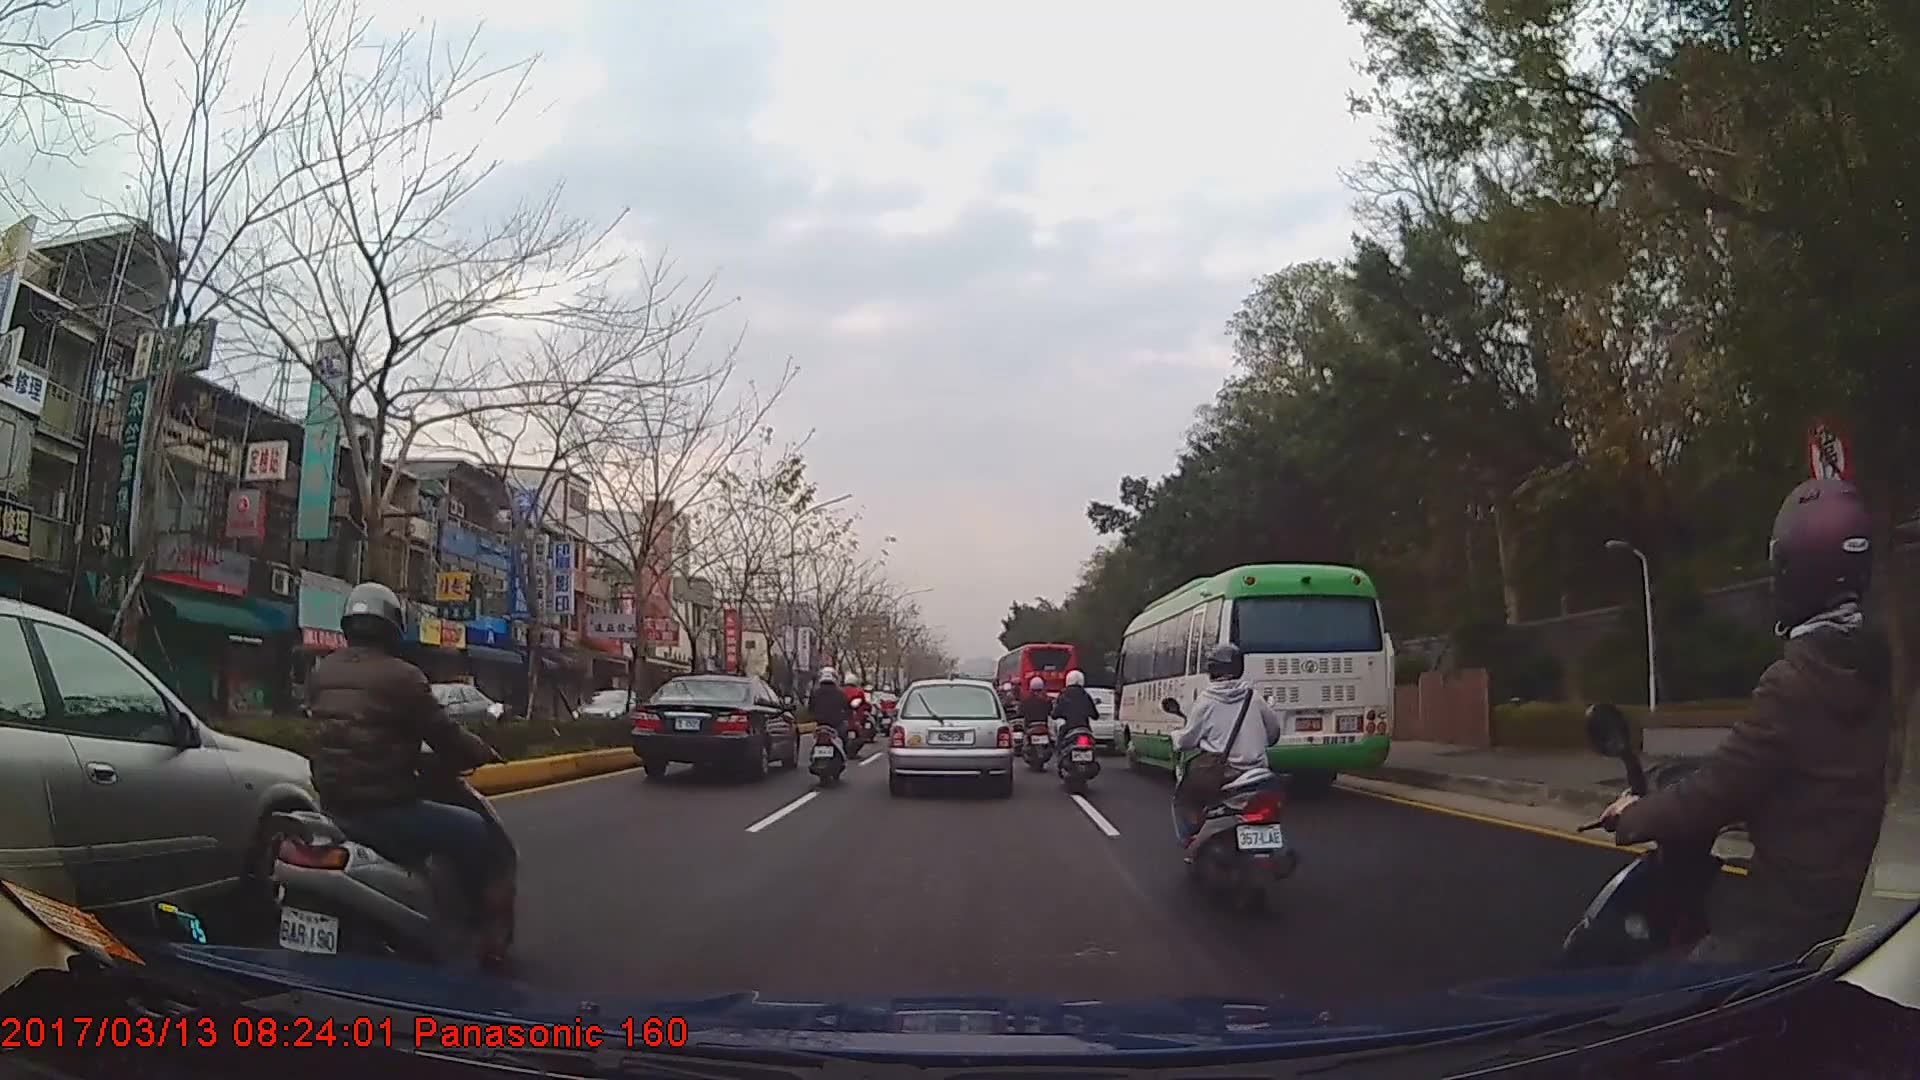rider: (1562, 478, 1920, 1080), (270, 579, 518, 999), (1167, 644, 1295, 913), (1053, 671, 1103, 793), (808, 668, 856, 789), (1020, 675, 1058, 774), (837, 671, 871, 756), (1005, 676, 1029, 756), (858, 688, 884, 744), (878, 685, 900, 726)
vehicle: (0, 600, 350, 967), (1113, 565, 1391, 796), (625, 671, 801, 782), (887, 678, 1012, 795), (372, 680, 497, 753), (996, 641, 1079, 736), (565, 687, 646, 734)
